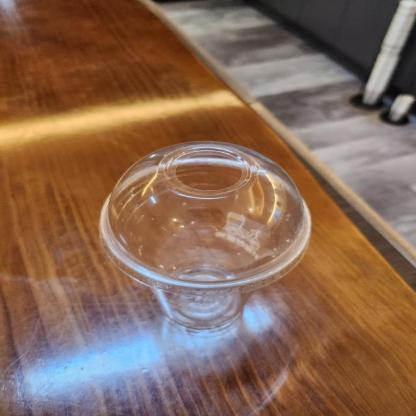Plastic Cup: (101, 140, 313, 330)
